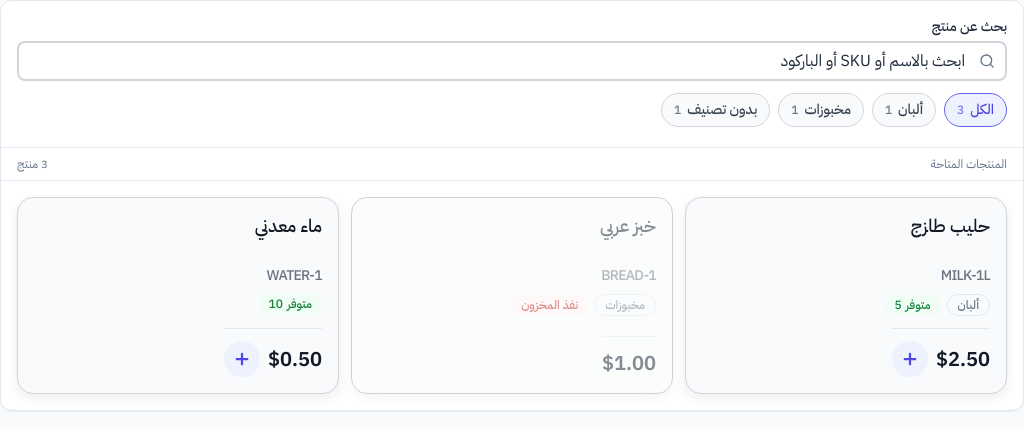
Test: ProductSearchPanel › filters the catalog by category and returns to all products
The image size is (1024, 429).
Click the button "ألبان 1" at (904, 110), box [872,93,936,127]
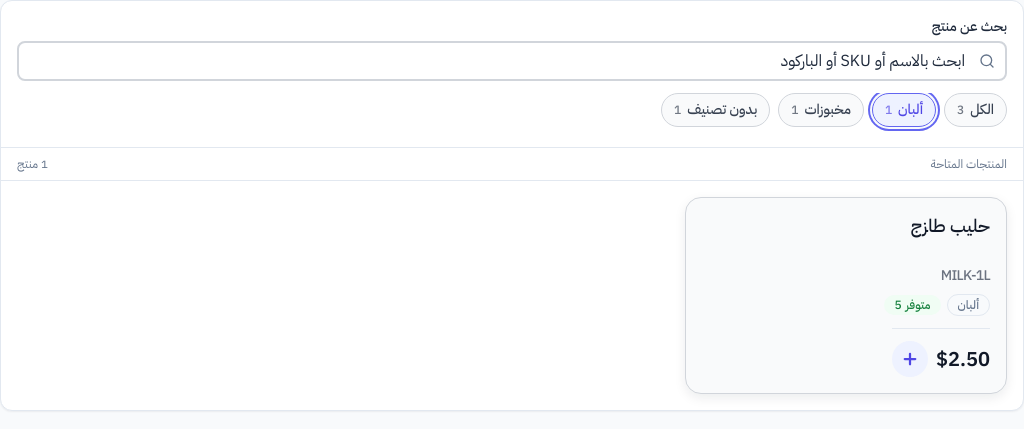
Expected: the text "حليب طازج" is shown, [911,212,990,239]
Now the button "خبز عربي" is gone
Now the button "ماء معدني" is gone
Click the button "الكل 3" at (976, 110), box [944,93,1007,127]
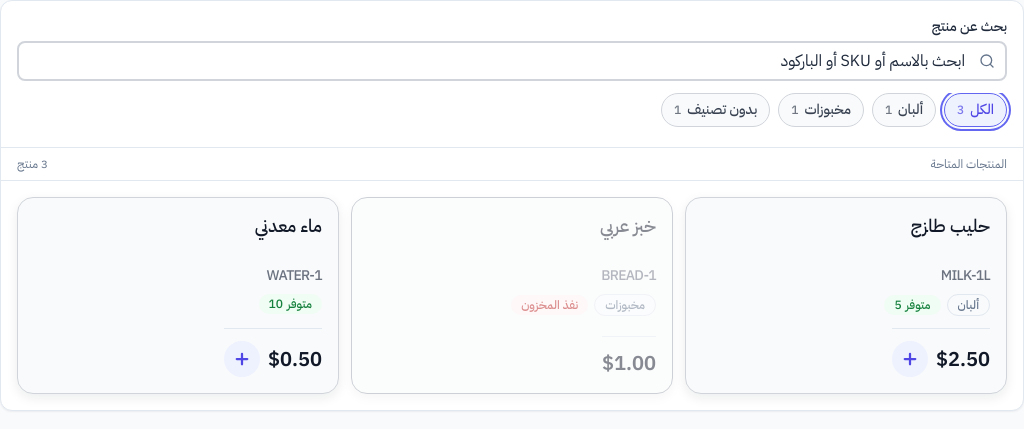
Now the text "خبز عربي" is shown, box [600,212,656,239]
